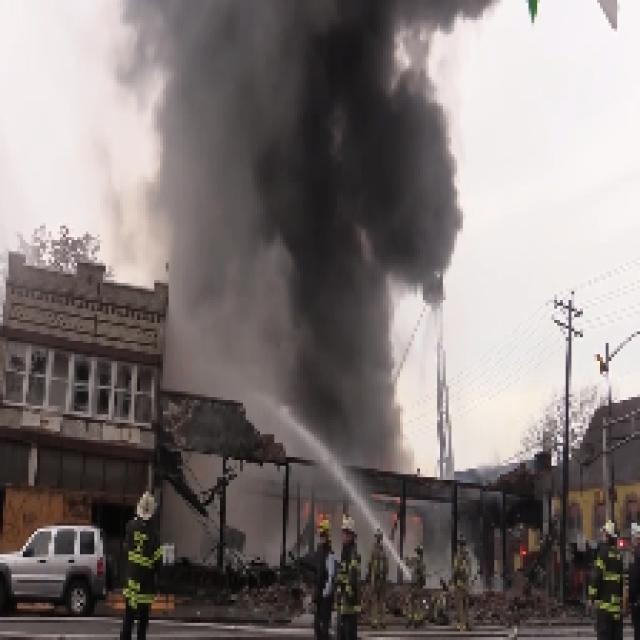Smoke: (126, 3, 423, 386), (426, 3, 494, 263), (331, 394, 423, 469)
